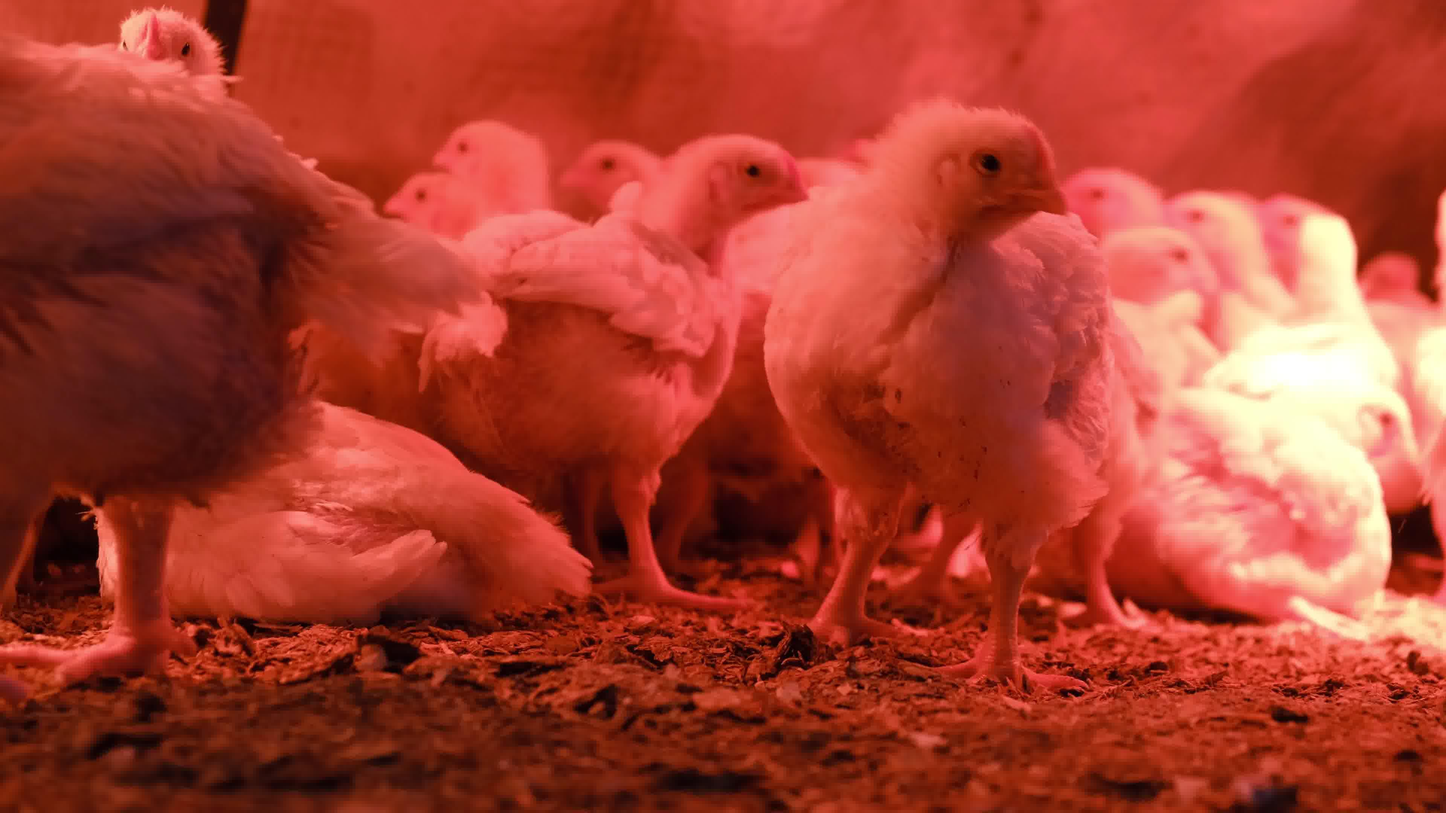AbNormal: (72, 371, 623, 640), (1158, 358, 1429, 617)
Normal: (0, 17, 352, 698), (798, 77, 1194, 670), (403, 145, 842, 629), (1261, 184, 1446, 531), (493, 102, 699, 318), (1060, 122, 1226, 373), (318, 88, 538, 260), (1130, 175, 1297, 354)
